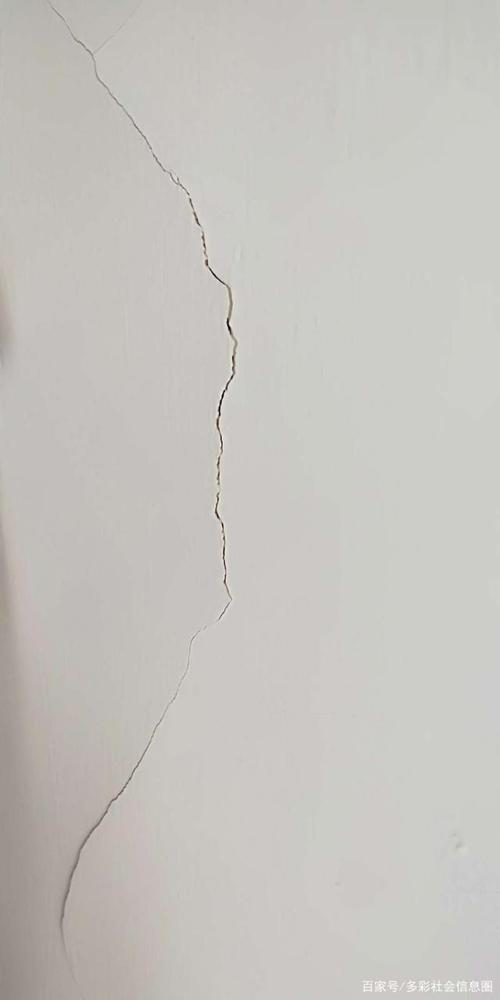Crack: (48, 1, 239, 970)
